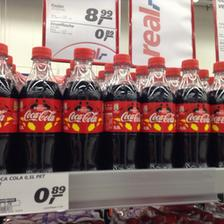Soda: (18, 46, 62, 172), (61, 46, 102, 174), (103, 52, 141, 170), (140, 56, 174, 168), (173, 58, 207, 166)
